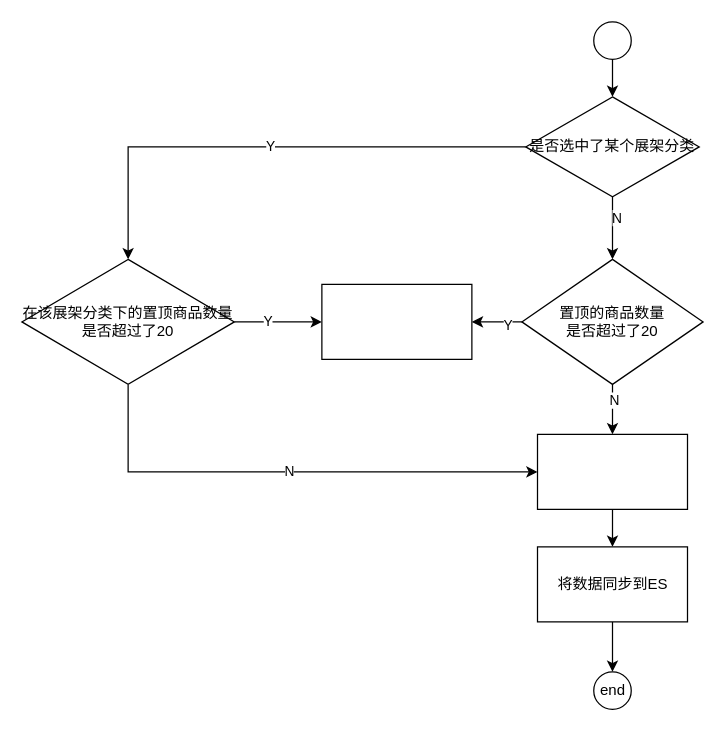
This 725x731 diagram has some shape labels left out. Here are the shapes that lost their labels. From the top down, the box of each, then its label:
(321, 283, 472, 359): 提示置顶商品不能超过20
(536, 433, 688, 509): 设置商品置顶成功，保存置顶数据
